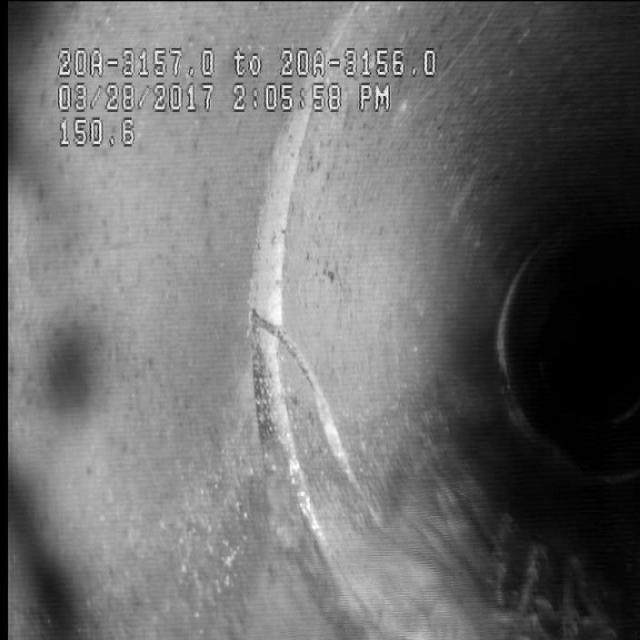Crack: (269, 281, 371, 506)
